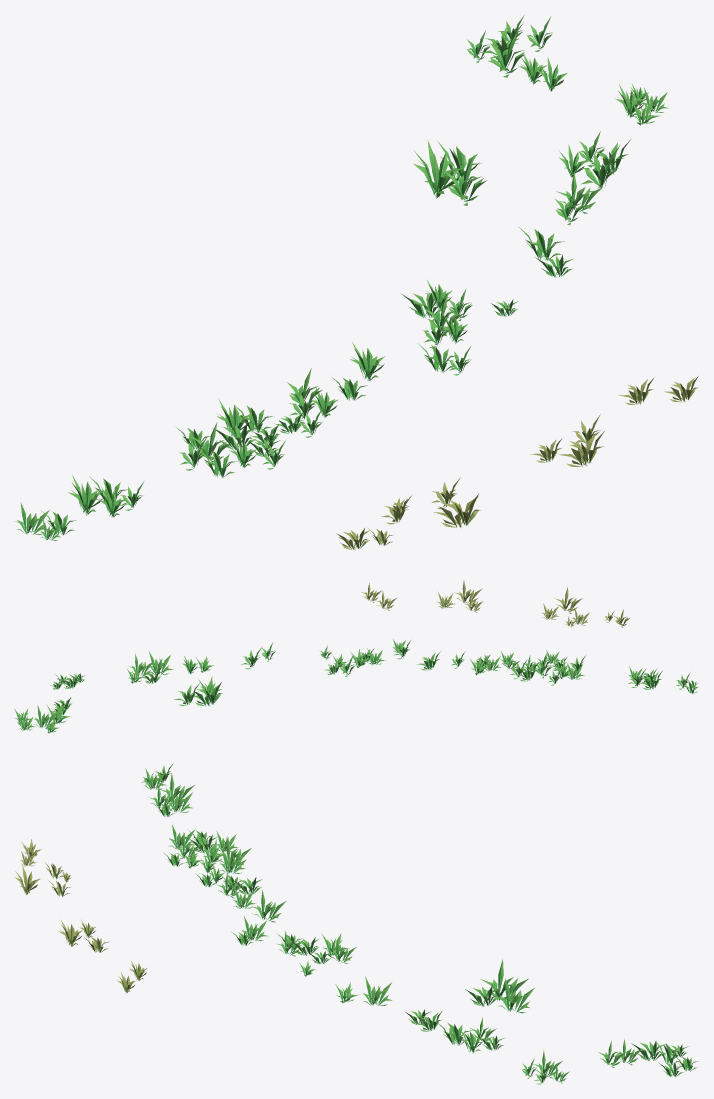
The model's file is area_12_13.fbx.
3 views of the same model, one above another, from view 1: azimuth 30°, elevation 25°; view 2: azimuth 150°, elevation 25°; view 3: azimuth 270°, elevation 25° (orthographic). The views are drawn at different scales.
Parts seen in each view (by area): view 1: area_12_13; view 2: area_12_13; view 3: area_12_13.
Part boxes in pixels (bbox=[...]): area_12_13: bbox=[14, 15, 698, 550]; area_12_13: bbox=[14, 580, 698, 733]; area_12_13: bbox=[14, 763, 698, 1084].
Size of the model in its own units: 31.03 by 1.64 by 28.87.
